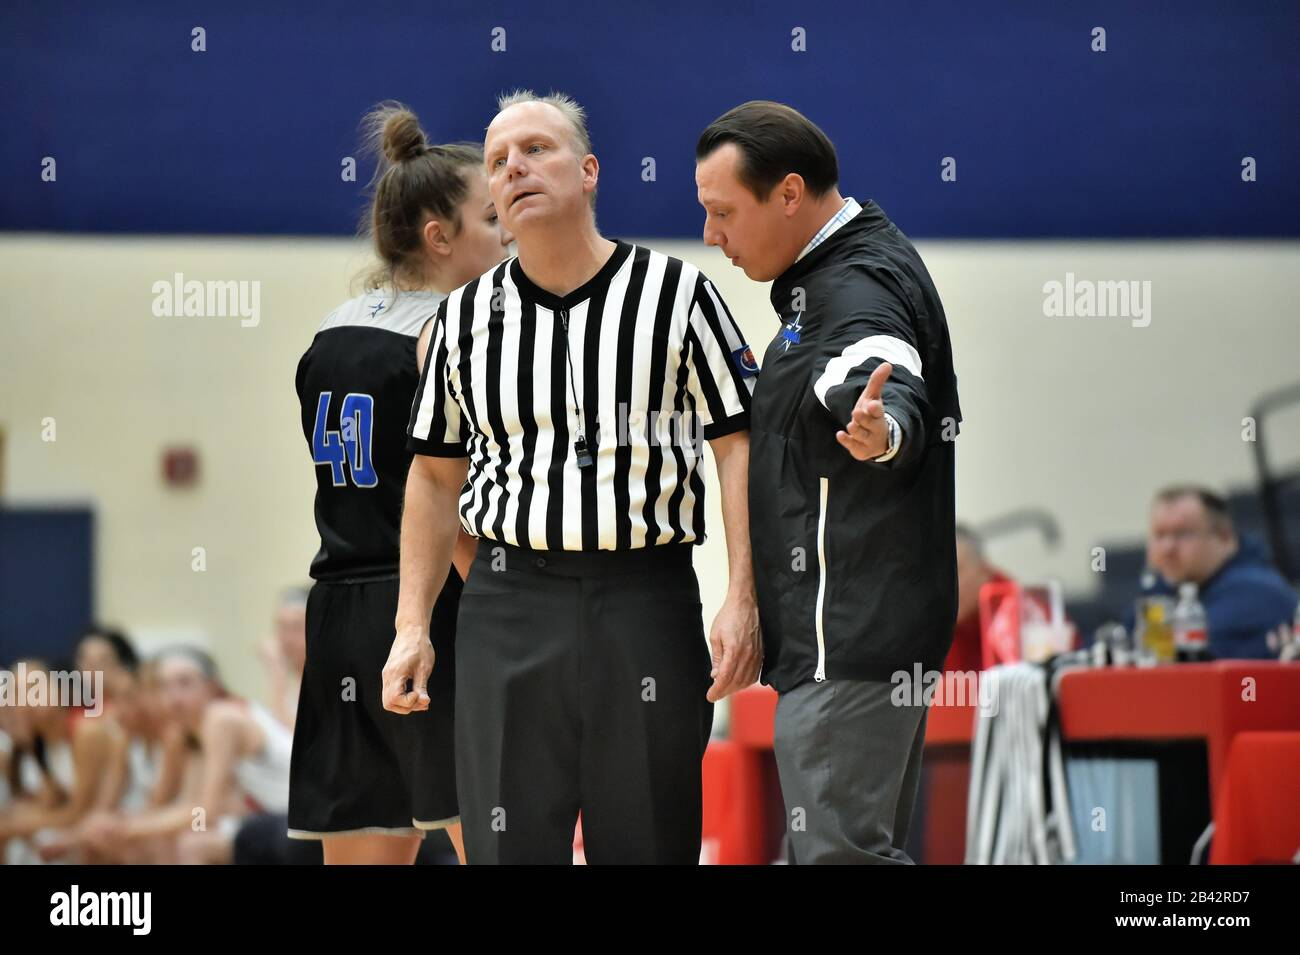face: (664, 111, 838, 288), (473, 108, 630, 236)
referee: (381, 103, 768, 868), (702, 108, 1012, 866)
